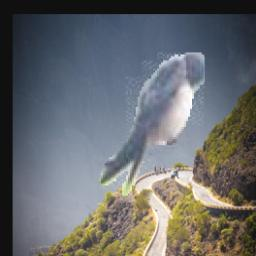Swallow: (100, 53, 206, 198)
